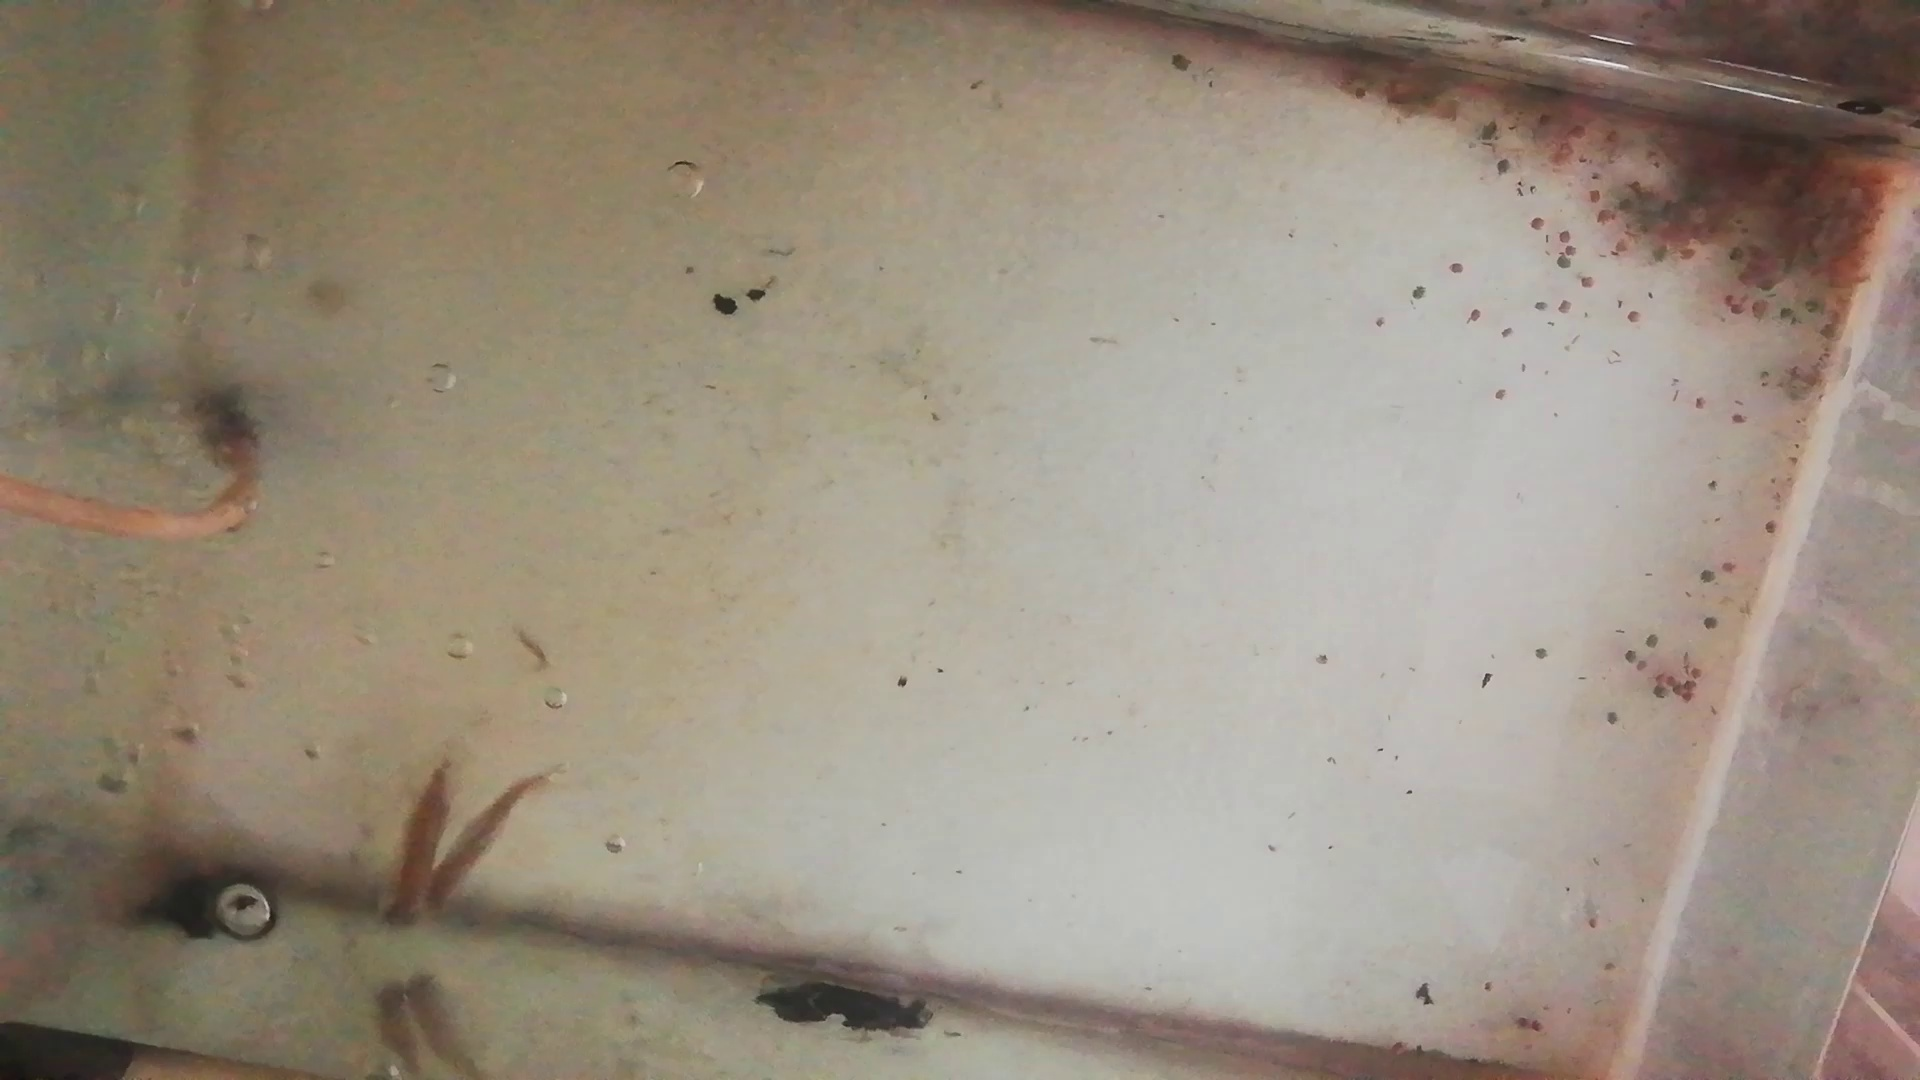fish: (417, 770, 538, 916), (386, 756, 444, 934)
